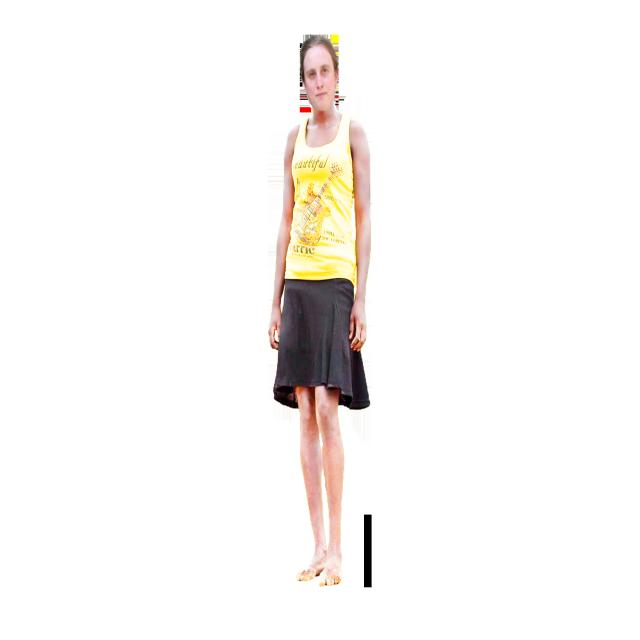jovem: (264, 25, 388, 599)
